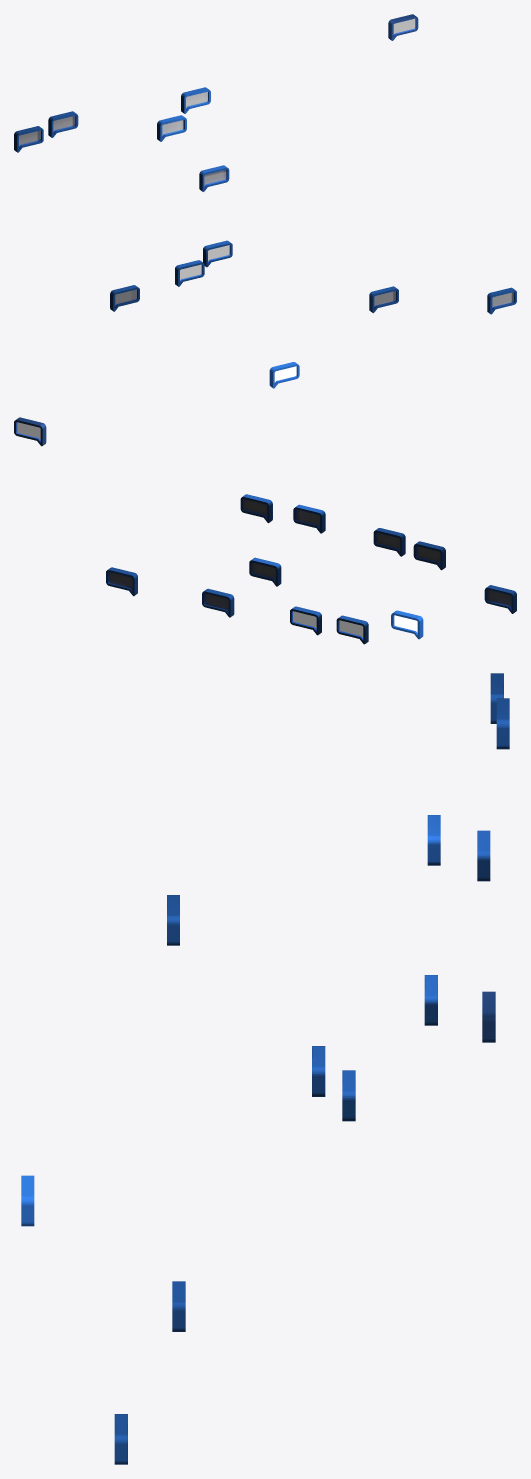
Rendered from pop_up_development.glb.
3 renders of one model, top to bottom at view 1: azimuth 30°, elevation 25°; view 2: azimuth 150°, elevation 25°; view 3: azimuth 270°, elevation 25°, orthographic. The views are drawn at different scales.
Visible parts, largest first — view 1: pop_up_running, pop_up_development, pop_up_photography_left, pop_up_languages, pop_up_social_networks, pop_up_share_knowledge, pop_up_photography_right, pop_up_art, pop_up_games, pop_up_travel, pop_up_stereoscopy, pop_up_contact_me; view 2: pop_up_share_knowledge, pop_up_travel, pop_up_running, pop_up_social_networks, pop_up_languages, pop_up_contact_me, pop_up_development, pop_up_games, pop_up_photography_left, pop_up_art, pop_up_photography_right, pop_up_stereoscopy; view 3: no part large enough to name.
Boxes of the visible parts, <box> form: pop_up_running: <box>269,362,299,388</box>; pop_up_development: <box>199,165,229,191</box>; pop_up_photography_left: <box>48,111,78,137</box>; pop_up_languages: <box>388,14,418,40</box>; pop_up_social_networks: <box>157,115,186,141</box>; pop_up_share_knowledge: <box>369,286,398,313</box>; pop_up_photography_right: <box>487,287,516,314</box>; pop_up_art: <box>14,126,43,152</box>; pop_up_games: <box>110,285,139,311</box>; pop_up_travel: <box>181,87,210,113</box>; pop_up_stereoscopy: <box>203,240,232,267</box>; pop_up_contact_me: <box>175,260,204,286</box>; pop_up_share_knowledge: <box>202,588,234,617</box>; pop_up_travel: <box>240,494,272,523</box>; pop_up_running: <box>391,610,423,639</box>; pop_up_social_networks: <box>293,504,325,533</box>; pop_up_languages: <box>14,417,46,446</box>; pop_up_contact_me: <box>336,615,368,644</box>; pop_up_development: <box>249,557,281,586</box>; pop_up_games: <box>484,585,516,613</box>; pop_up_photography_left: <box>373,528,405,556</box>; pop_up_art: <box>413,541,445,570</box>; pop_up_photography_right: <box>106,567,137,596</box>; pop_up_stereoscopy: <box>290,606,321,635</box>.
Size of the model in its own units: 34.1 by 18.2 by 17.78.
12 materials, 12 textured.
